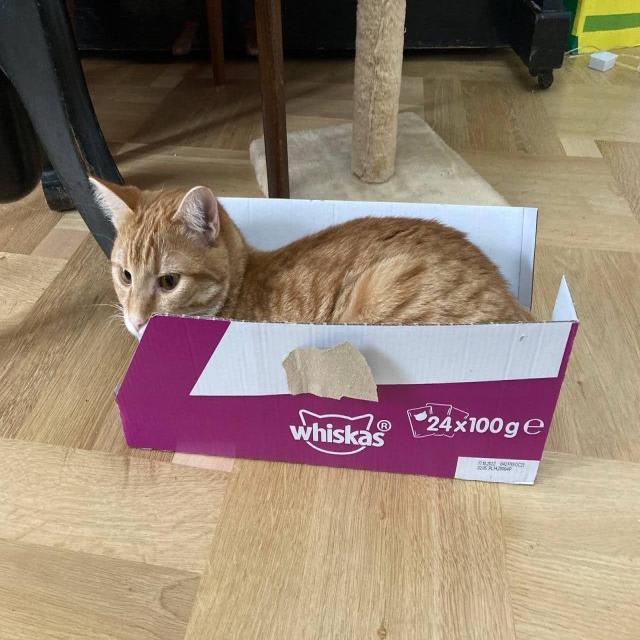red_cat: (74, 172, 540, 350)
